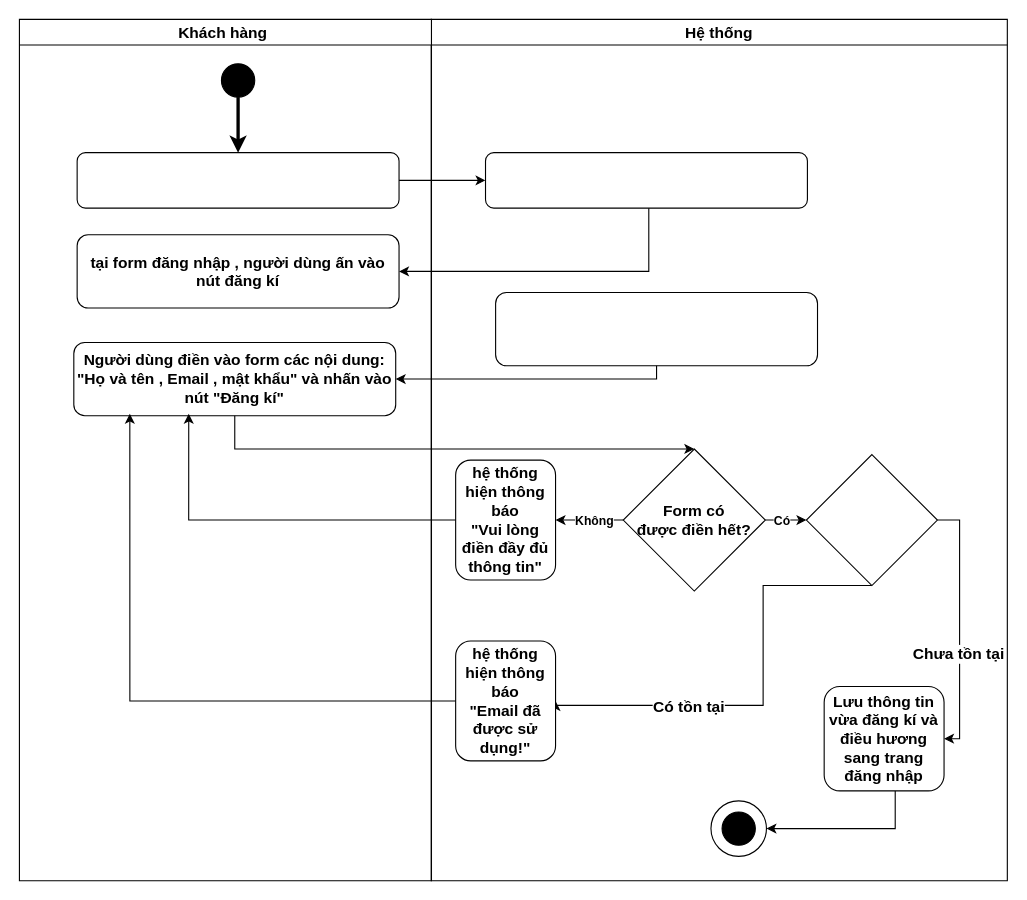
The diagram is 1027 pixels wide and 900 high, and some of its shapes have lost their labels. Each missing label, with the centre of its shape:
Email đã tồn tại hay chưa: point (871, 519)
Hệ thống hiển thị form đăng kí: point (656, 328)
Hệ thống hiện form đăng nhập: point (645, 180)
Người dùng truy cập vào trang đăng nhập: point (237, 180)
